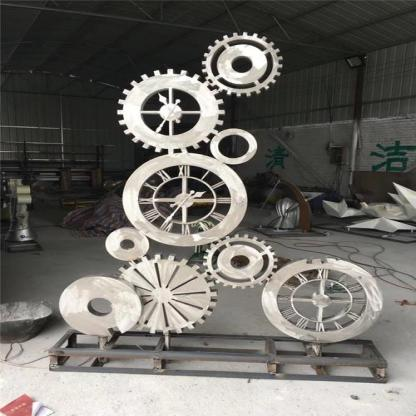FOD: (111, 68, 226, 153), (200, 31, 283, 96)
